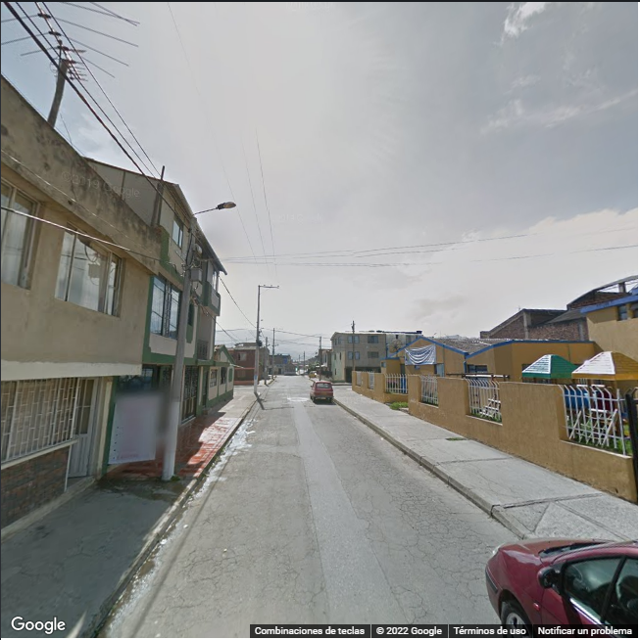D20: (379, 502, 492, 604), (164, 545, 245, 610)
